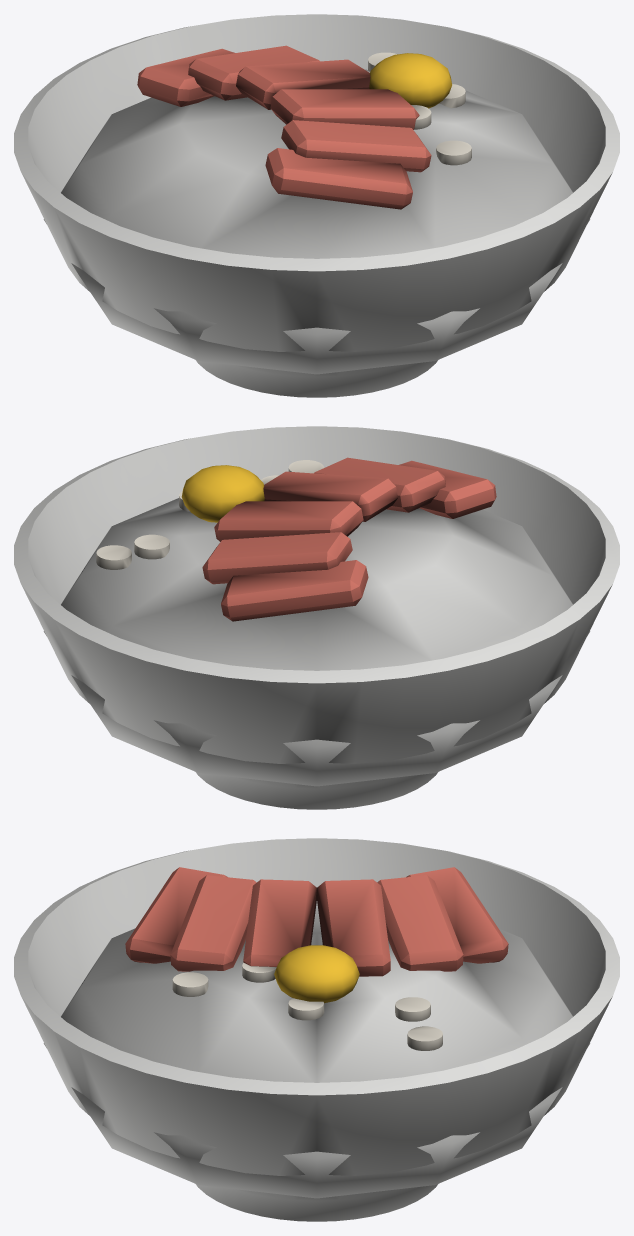
File: meal_ricebowl.glb
The picture shows the model from 3 angles, top to bottom: view 1: azimuth 30°, elevation 25°; view 2: azimuth 150°, elevation 25°; view 3: azimuth 270°, elevation 25°; orthographic projection.
Parts seen in each view (by area): view 1: PART; view 2: PART; view 3: PART.
Boxes of the visible parts, bbox=[...] form: PART: bbox=[14, 14, 619, 397]; PART: bbox=[14, 426, 619, 809]; PART: bbox=[14, 838, 619, 1221].
Bounding box in the file's own units: 0.2244 × 0.109 × 0.2238.
